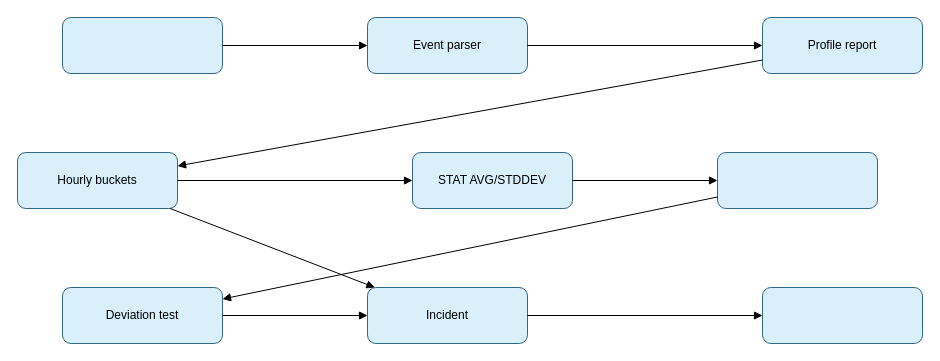
The diagram is 940 pixels wide and 361 high, and some of its shapes have lost their labels. The shapes that lost their labels are listed below. From the top down, each one's centre as x and y in pixels, then its label:
At (x=142, y=45): "Raw events".
At (x=797, y=180): "Live rule window".
At (x=842, y=315): "Analyst review".
